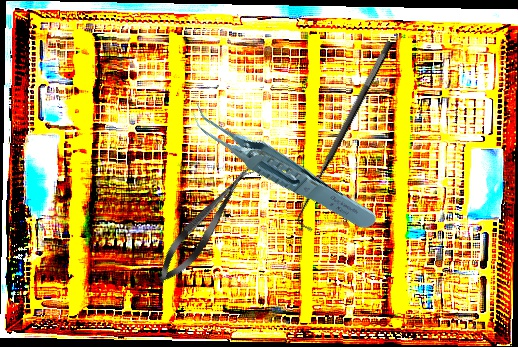Hook Surgical: (288, 38, 408, 234)
Micro Scissor: (149, 158, 261, 291)
Tissue Forceps: (183, 66, 381, 264)
